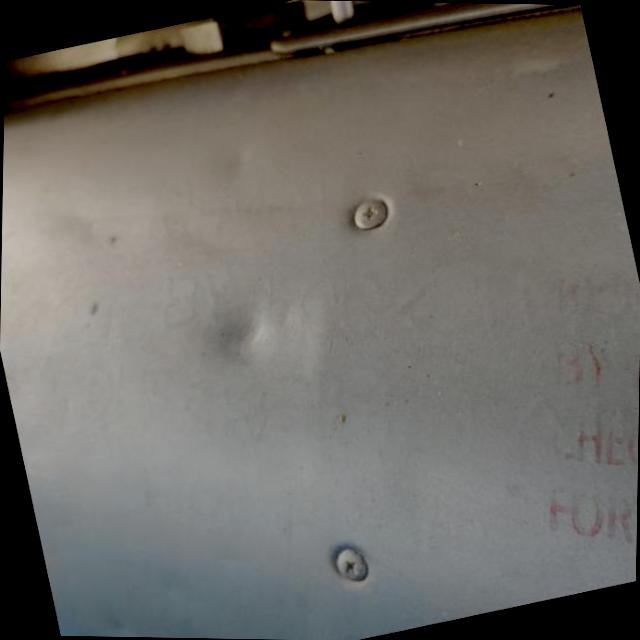dent: (199, 302, 274, 375)
